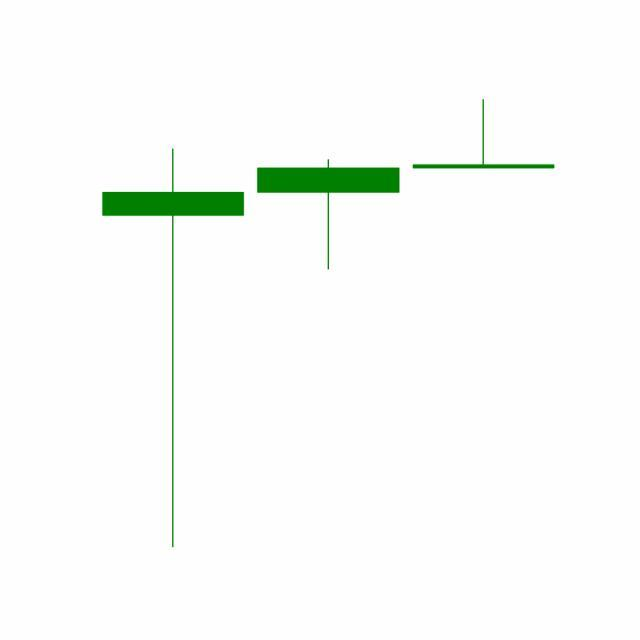Gravestone Doji: (406, 99, 562, 170)
